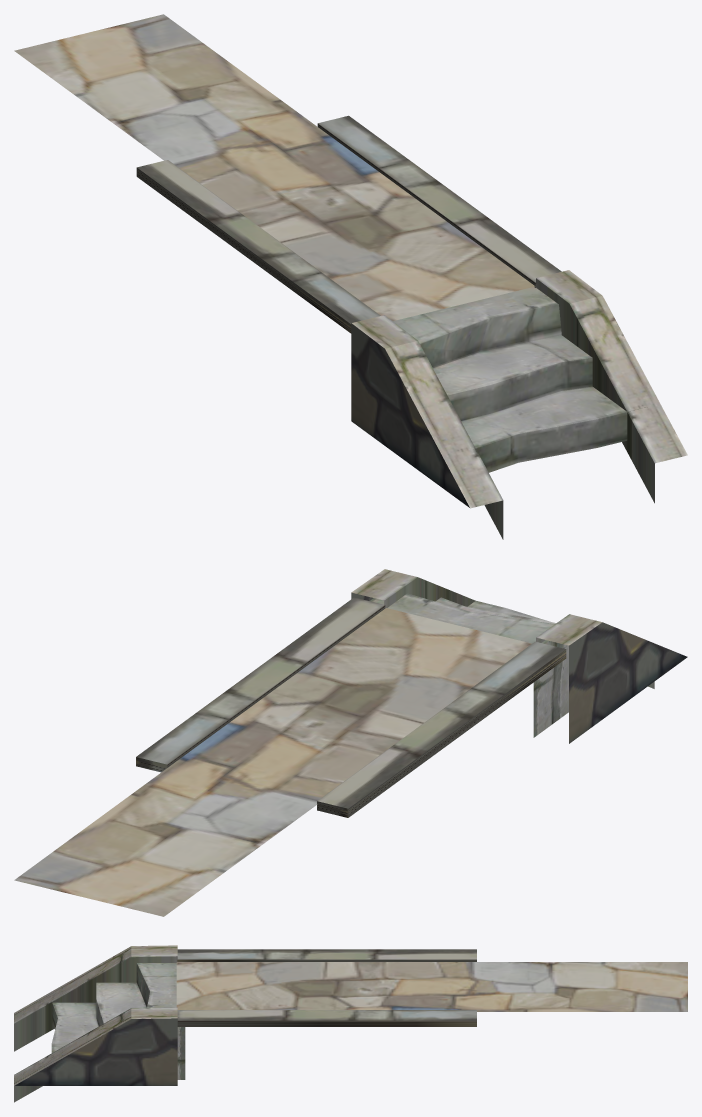
Rendered from louti.FBX.
3 views of the same model, one above another, from view 1: azimuth 30°, elevation 25°; view 2: azimuth 150°, elevation 25°; view 3: azimuth 270°, elevation 25° (orthographic). The views are drawn at different scales.
Visible parts, largest first — view 1: Object003; view 2: Object003; view 3: Object003.
Part boxes in pixels (bbox=[...]): Object003: bbox=[14, 14, 687, 539]; Object003: bbox=[14, 569, 687, 916]; Object003: bbox=[14, 945, 687, 1102].
Size of the model in its own units: 23.32 by 14.2 by 90.93.
